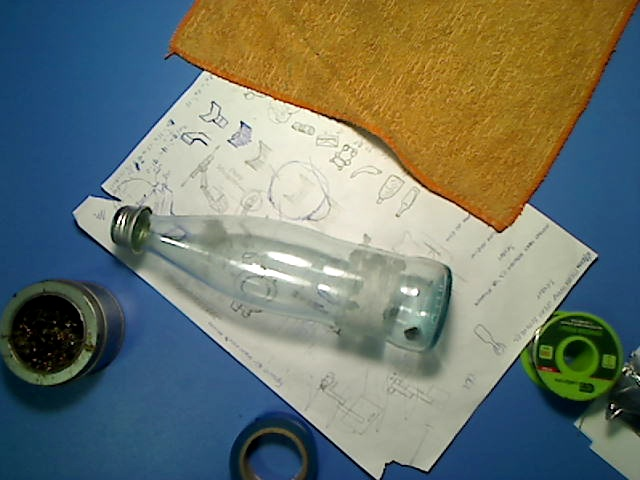bottle: (110, 204, 455, 353)
